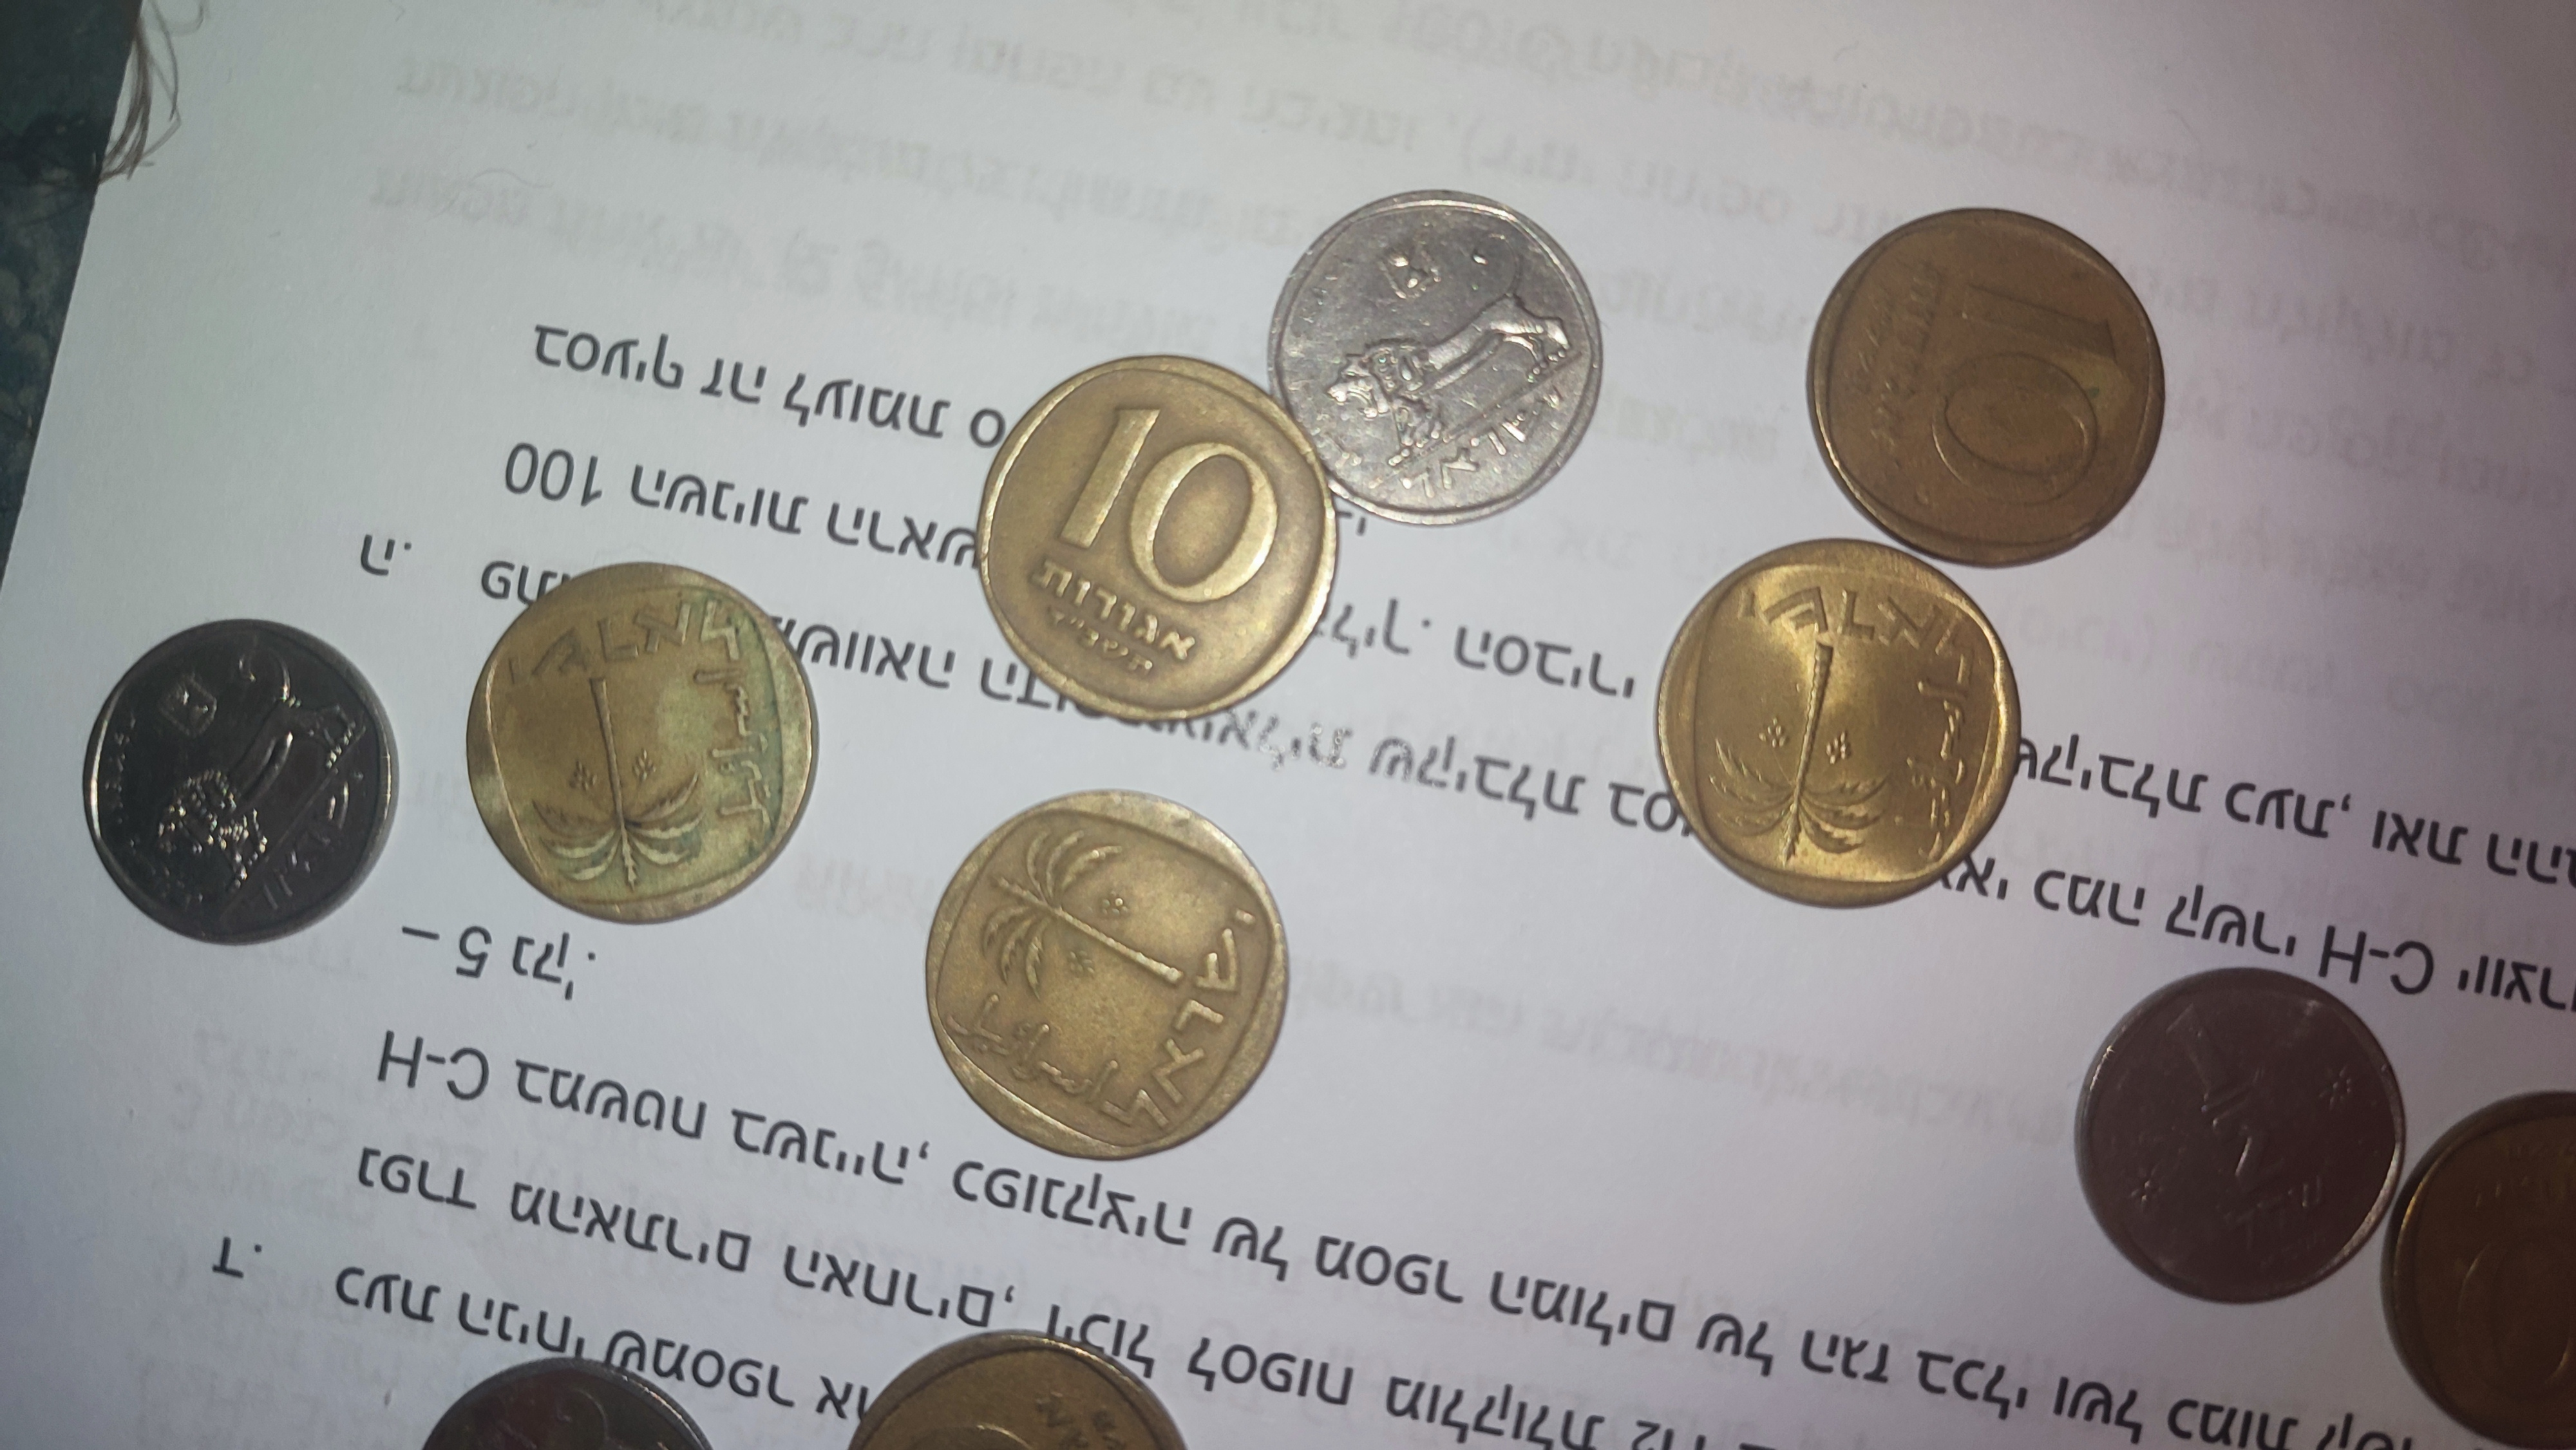1/2 old sheqel: (1261, 186, 1608, 530), (2072, 965, 2410, 1309), (78, 617, 403, 948)
10 old agora brown: (1647, 532, 2026, 916), (966, 347, 1346, 723), (922, 785, 1295, 1169), (1801, 202, 2171, 571), (465, 559, 826, 934)
